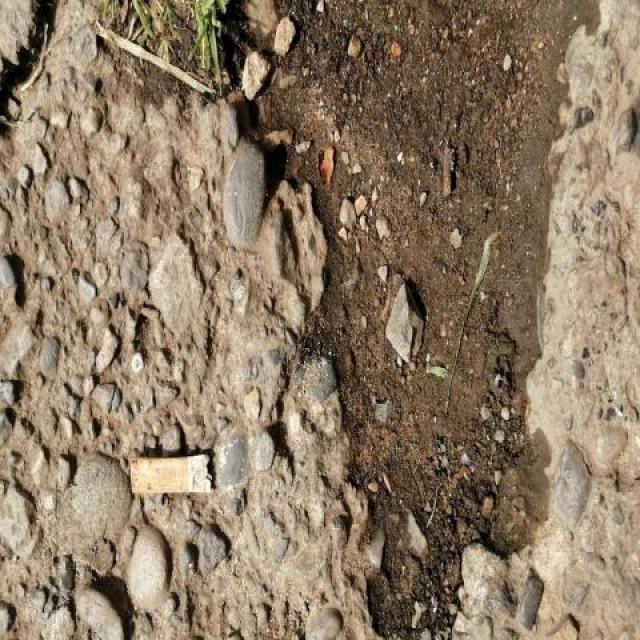non-organic waste: (124, 446, 219, 503)
